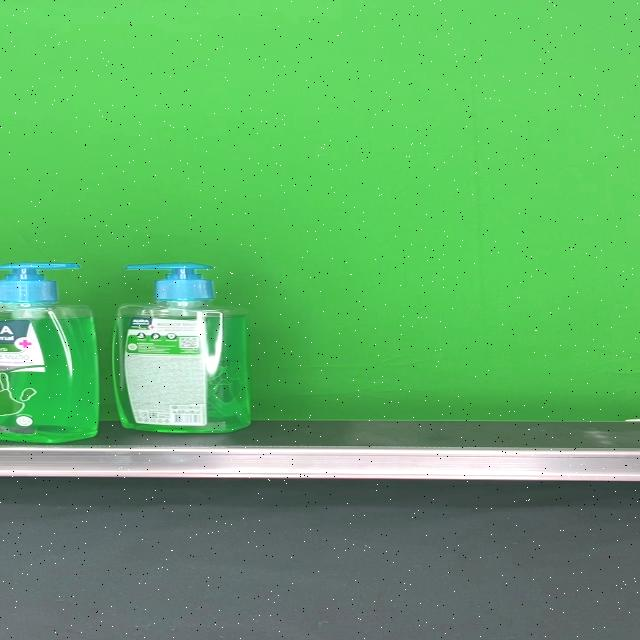Bottle: (112, 263, 251, 433), (0, 261, 99, 442)
Cap: (123, 264, 213, 304), (0, 262, 79, 302)
